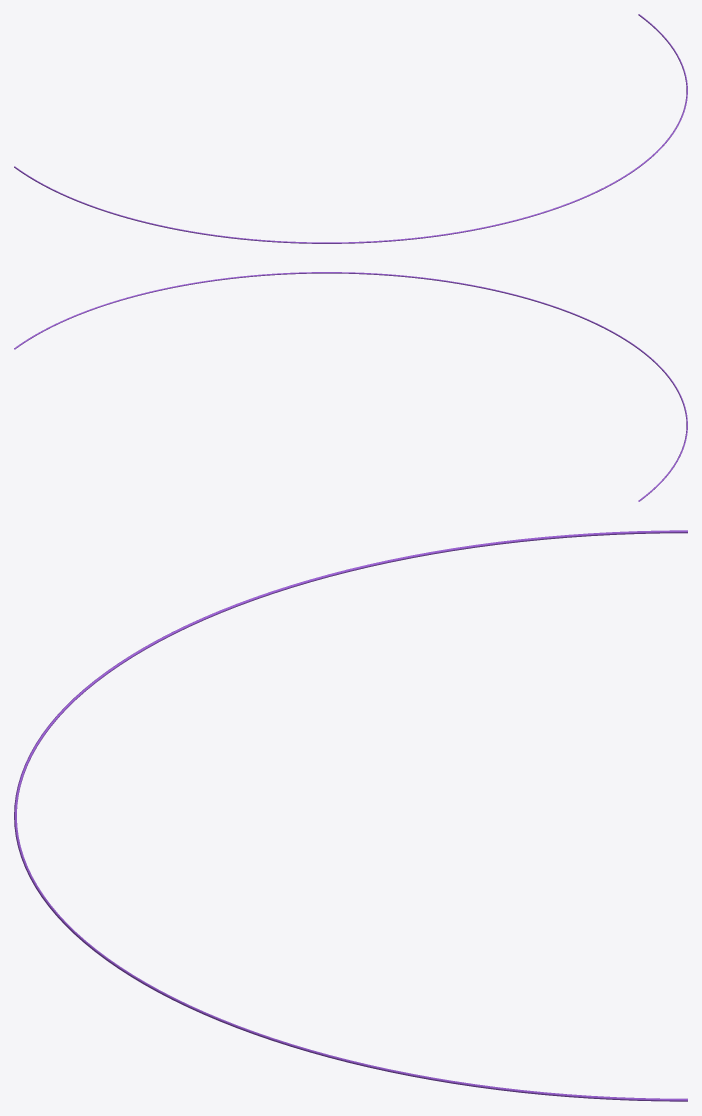
File: hulfLine.glb
3 views of the same model, one above another, from view 1: azimuth 30°, elevation 25°; view 2: azimuth 150°, elevation 25°; view 3: azimuth 270°, elevation 25° (orthographic). The views are drawn at different scales.
Parts seen in each view (by area): view 1: Circle4; view 2: Circle4; view 3: Circle4.
Part boxes in pixels (left/top/right/bottom): Circle4: left=14, top=14, right=687, bottom=243; Circle4: left=14, top=272, right=687, bottom=501; Circle4: left=14, top=530, right=687, bottom=1101.
Bounding box in the file's own units: 45.92 × 0.0984 × 22.96.
